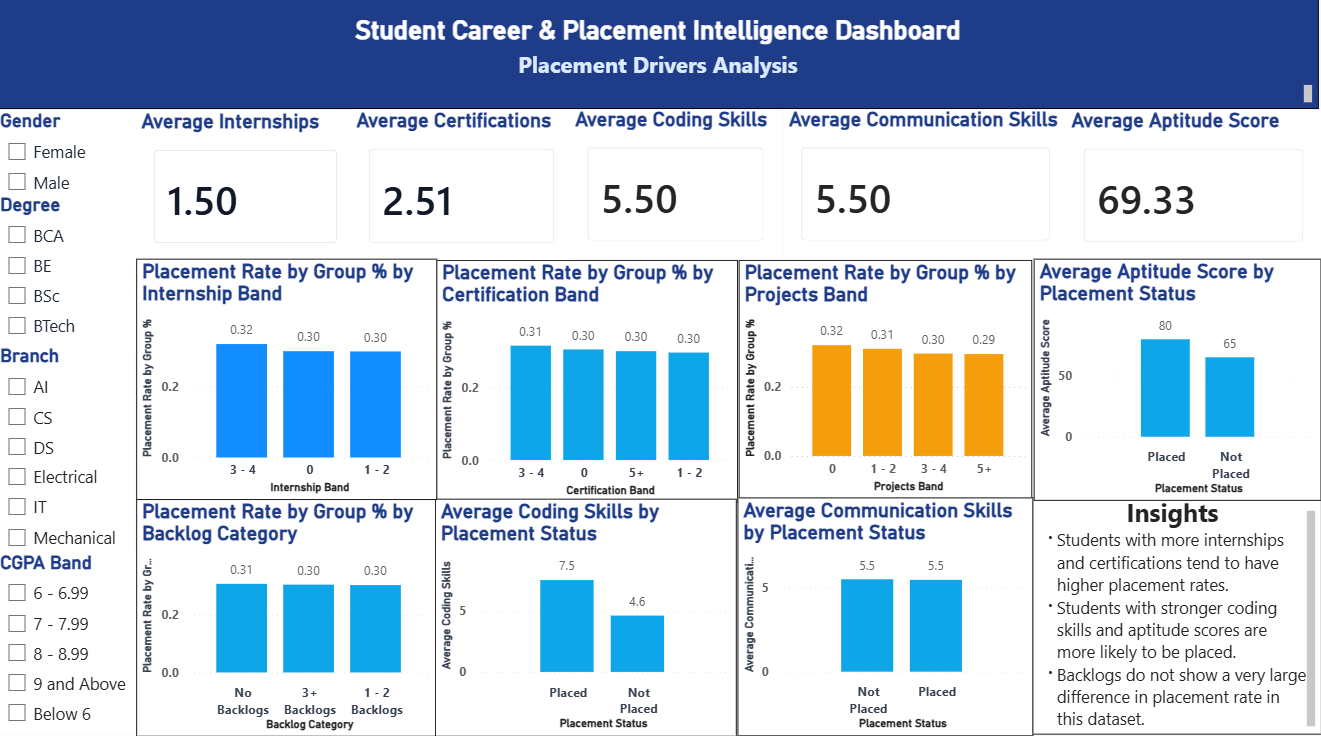

This screenshot's page, from the dashboard's own definition file:
{"tool":"powerbi","page":{"name":"Placement Drives","canvas":[1280,720],"ordinal":1},"visuals":[{"type":"cardVisual","title":"Average Internships","fields":{"Data":["Indian_Student_Placement_Dataset_2025.Average Internships"]},"box":[136,116.4,211.7,145.8],"z":0},{"type":"cardVisual","title":"Average Certifications","fields":{"Data":["Indian_Student_Placement_Dataset_2025.Average Certifications"]},"box":[343.5,115.2,213.2,147],"z":1000},{"type":"cardVisual","title":"Average Coding Skills","fields":{"Data":["Indian_Student_Placement_Dataset_2025.Average Coding Skills"]},"box":[555,113.9,204.8,145.8],"z":2000},{"type":"cardVisual","title":"Average Communication Skills","fields":{"Data":["Indian_Student_Placement_Dataset_2025.Average Communication Skills"]},"box":[760.8,113,274.4,145.8],"z":3000},{"type":"cardVisual","title":"Average Aptitude Score","fields":{"Data":["Indian_Student_Placement_Dataset_2025.Average Aptitude Score"]},"box":[1034,115.2,246.2,145.8],"z":4000},{"type":"slicer","title":"Gender","fields":{"Values":["Indian_Student_Placement_Dataset_2025.Gender"]},"box":[0,116.4,137.5,91.9],"z":5000},{"type":"slicer","title":"Degree","fields":{"Values":["Indian_Student_Placement_Dataset_2025.Degree"]},"box":[0,196.5,136,152.6],"z":6000},{"type":"slicer","title":"Branch","fields":{"Values":["Indian_Student_Placement_Dataset_2025.Branch"]},"box":[0,343,135.5,207],"z":7000},{"type":"slicer","title":"CGPA Band","fields":{"Values":["Indian_Student_Placement_Dataset_2025.CGPA Band"]},"box":[0,541.5,136.5,177.6],"z":8000},{"type":"clusteredColumnChart","fields":{"Y":["Indian_Student_Placement_Dataset_2025.Placement Rate by Group %"],"Category":["Indian_Student_Placement_Dataset_2025.Certification Band"]},"box":[426.3,261,291.6,234.2],"z":9000},{"type":"clusteredColumnChart","fields":{"Y":["Indian_Student_Placement_Dataset_2025.Placement Rate by Group %"],"Category":["Indian_Student_Placement_Dataset_2025.Projects Band"]},"box":[718.2,260.7,283,230.3],"z":10000},{"type":"textbox","title":"Student Career & Placement Intelligence Dashboard","box":[0,3.2,1277.8,111.5],"z":11000},{"type":"clusteredColumnChart","fields":{"Y":["Indian_Student_Placement_Dataset_2025.Placement Rate by Group %"],"Category":["Indian_Student_Placement_Dataset_2025.Backlog Category"]},"box":[136,490.5,290.4,229.8],"z":12000},{"type":"clusteredColumnChart","fields":{"Category":["Indian_Student_Placement_Dataset_2025.Placement Status"],"Y":["Indian_Student_Placement_Dataset_2025.Average Coding Skills"]},"box":[425.1,491,291.6,229.3],"z":13000},{"type":"clusteredColumnChart","fields":{"Y":["Indian_Student_Placement_Dataset_2025.Average Communication Skills"],"Category":["Indian_Student_Placement_Dataset_2025.Placement Status"]},"box":[716.7,490,285.5,230.3],"z":14000},{"type":"clusteredColumnChart","fields":{"Y":["Indian_Student_Placement_Dataset_2025.Placement Rate by Group %"],"Category":["Indian_Student_Placement_Dataset_2025.Internship Band"]},"box":[136,259.7,290.4,233],"z":15000},{"type":"textbox","box":[1000.9,490,279.3,228.7],"z":16000},{"type":"clusteredColumnChart","fields":{"Category":["Indian_Student_Placement_Dataset_2025.Placement Status"],"Y":["Indian_Student_Placement_Dataset_2025.Average Aptitude Score"]},"box":[1002.4,259.7,277.9,234],"z":17000}]}

Visuals, with their boxes in screenshot pixels (x1, y1, x2, y2), scaled from the page's 1280x720 canvas onto the 1321x736 screenshot:
"Average Internships" cardVisual: x1=140, y1=119, x2=359, y2=268
"Average Certifications" cardVisual: x1=355, y1=118, x2=575, y2=268
"Average Coding Skills" cardVisual: x1=573, y1=116, x2=784, y2=265
"Average Communication Skills" cardVisual: x1=785, y1=116, x2=1068, y2=265
"Average Aptitude Score" cardVisual: x1=1067, y1=118, x2=1320, y2=267
"Gender" slicer: x1=0, y1=119, x2=142, y2=213
"Degree" slicer: x1=0, y1=201, x2=140, y2=357
"Branch" slicer: x1=0, y1=351, x2=140, y2=562
"CGPA Band" slicer: x1=0, y1=554, x2=141, y2=735
clusteredColumnChart - Indian_Student_Placement_Dataset_2025.Placement Rate by Group % x Indian_Student_Placement_Dataset_2025.Certification Band: x1=440, y1=267, x2=741, y2=506
clusteredColumnChart - Indian_Student_Placement_Dataset_2025.Placement Rate by Group % x Indian_Student_Placement_Dataset_2025.Projects Band: x1=741, y1=266, x2=1033, y2=502
"Student Career & Placement Intelligence Dashboard" textbox: x1=0, y1=3, x2=1319, y2=117
clusteredColumnChart - Indian_Student_Placement_Dataset_2025.Placement Rate by Group % x Indian_Student_Placement_Dataset_2025.Backlog Category: x1=140, y1=501, x2=440, y2=735
clusteredColumnChart - Indian_Student_Placement_Dataset_2025.Placement Status x Indian_Student_Placement_Dataset_2025.Average Coding Skills: x1=439, y1=502, x2=740, y2=735
clusteredColumnChart - Indian_Student_Placement_Dataset_2025.Average Communication Skills x Indian_Student_Placement_Dataset_2025.Placement Status: x1=740, y1=501, x2=1034, y2=735
clusteredColumnChart - Indian_Student_Placement_Dataset_2025.Placement Rate by Group % x Indian_Student_Placement_Dataset_2025.Internship Band: x1=140, y1=265, x2=440, y2=504
textbox: x1=1033, y1=501, x2=1320, y2=735
clusteredColumnChart - Indian_Student_Placement_Dataset_2025.Placement Status x Indian_Student_Placement_Dataset_2025.Average Aptitude Score: x1=1035, y1=265, x2=1320, y2=505
